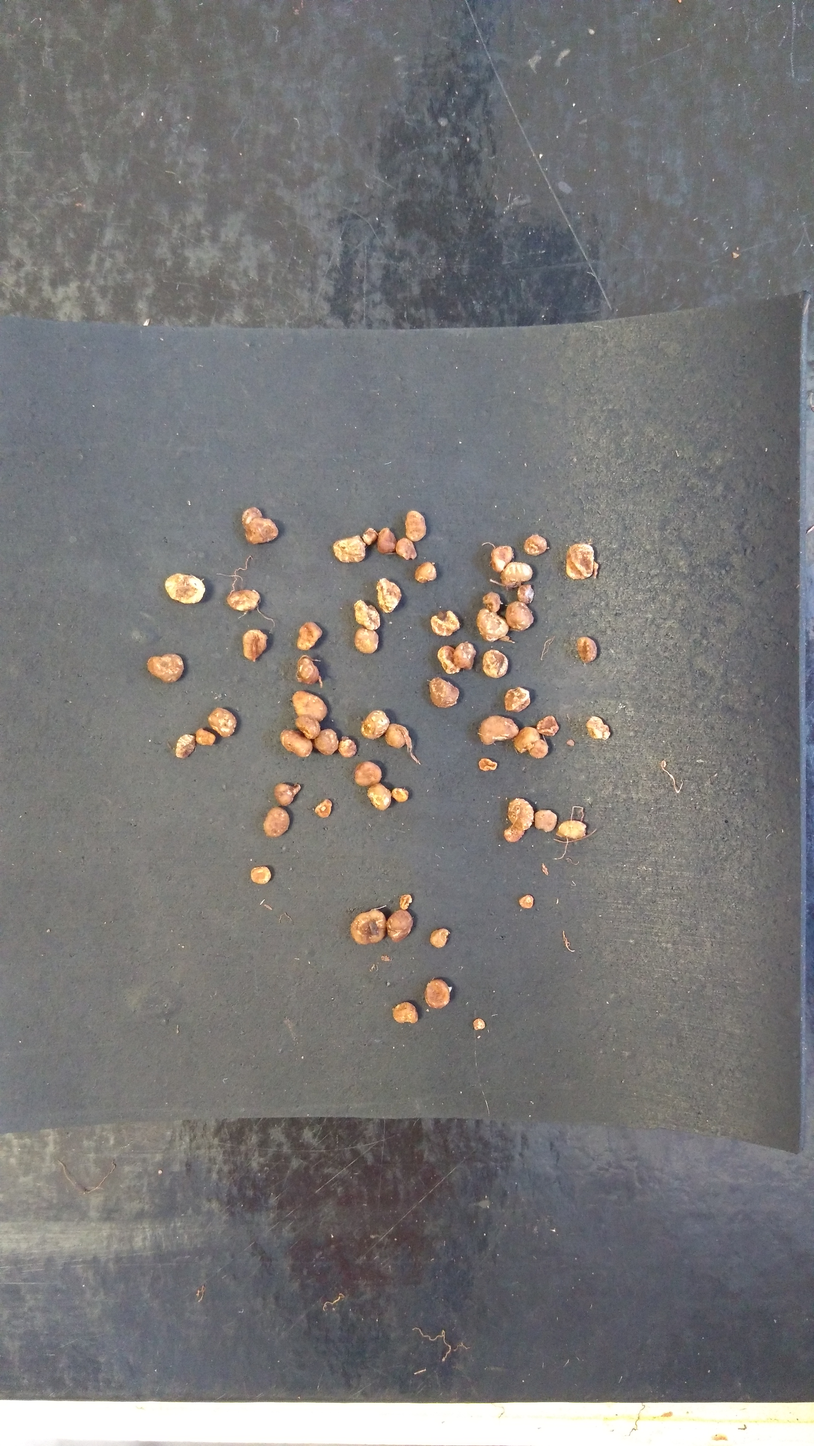nodule: (162, 570, 209, 608), (561, 540, 603, 582), (287, 688, 331, 724), (143, 652, 189, 686), (348, 909, 388, 945), (477, 713, 520, 746), (279, 723, 314, 763), (425, 675, 463, 711), (474, 608, 510, 644), (571, 631, 605, 669), (427, 606, 465, 640), (328, 533, 369, 564), (479, 646, 514, 682), (206, 705, 242, 740), (259, 804, 292, 842), (223, 587, 269, 614), (498, 559, 538, 590), (374, 575, 405, 615), (350, 597, 385, 632), (269, 776, 306, 808), (357, 707, 390, 742), (239, 627, 270, 664), (293, 652, 324, 688), (505, 796, 535, 832), (349, 626, 382, 658), (383, 909, 415, 942), (352, 758, 386, 789), (243, 516, 280, 544), (488, 542, 519, 575), (582, 713, 615, 744), (554, 817, 590, 845), (503, 600, 534, 632), (295, 620, 326, 651), (312, 725, 341, 758), (362, 783, 393, 813), (402, 509, 429, 543), (424, 978, 452, 1010), (435, 644, 462, 677), (503, 684, 532, 714), (512, 726, 543, 754), (292, 713, 324, 740), (383, 721, 410, 753), (534, 712, 563, 740), (451, 641, 478, 671), (376, 524, 400, 557), (524, 532, 552, 560), (193, 724, 222, 751), (532, 807, 559, 835), (413, 559, 439, 588), (247, 864, 282, 885), (336, 732, 361, 760), (391, 1000, 419, 1025), (394, 533, 418, 562), (311, 796, 338, 821), (513, 580, 537, 608), (173, 730, 197, 757), (239, 504, 263, 531), (476, 755, 500, 779), (480, 590, 504, 613), (428, 926, 451, 949), (389, 784, 412, 806), (528, 739, 550, 760), (501, 824, 524, 843), (362, 523, 377, 547), (516, 893, 535, 910), (398, 893, 414, 911), (472, 1017, 486, 1031)
